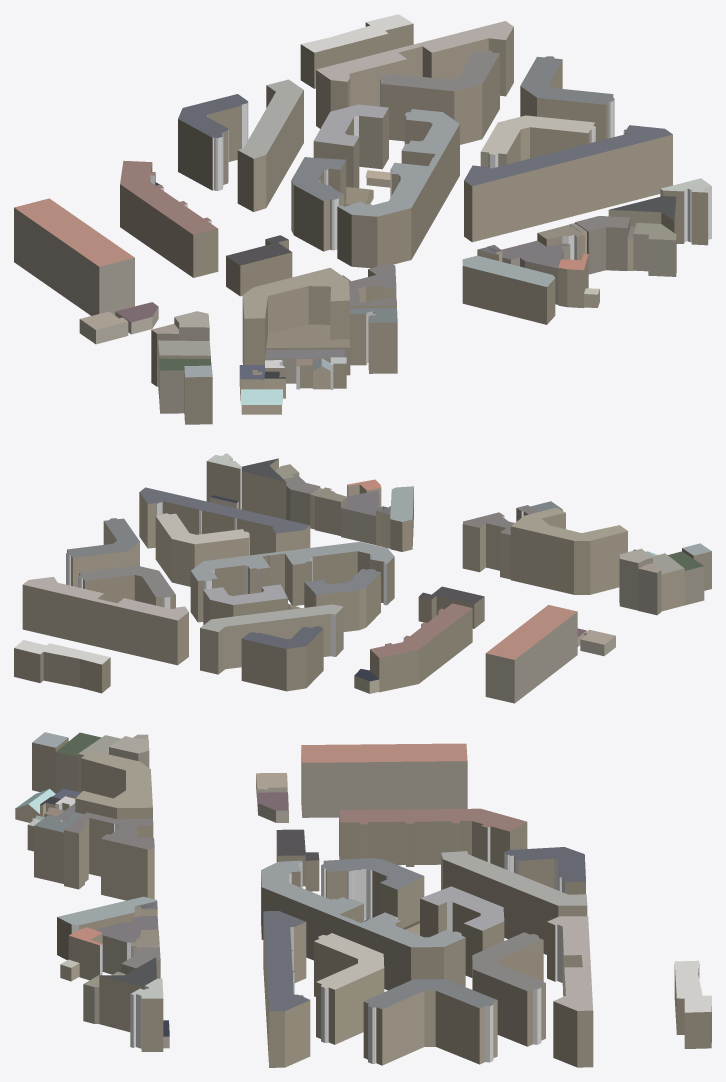
3 views of the same model, one above another, from view 1: azimuth 30°, elevation 25°; view 2: azimuth 150°, elevation 25°; view 3: azimuth 270°, elevation 25° (orthographic). The views are drawn at different scales.
Parts seen in each view (by area): view 1: tuile; view 2: tuile; view 3: tuile.
Boxes of the visible parts, bbox=[...] form: tuile: bbox=[14, 14, 711, 424]; tuile: bbox=[14, 453, 711, 703]; tuile: bbox=[15, 732, 711, 1067].
Bounding box in the file's own units: 269 × 29.67 × 266.
